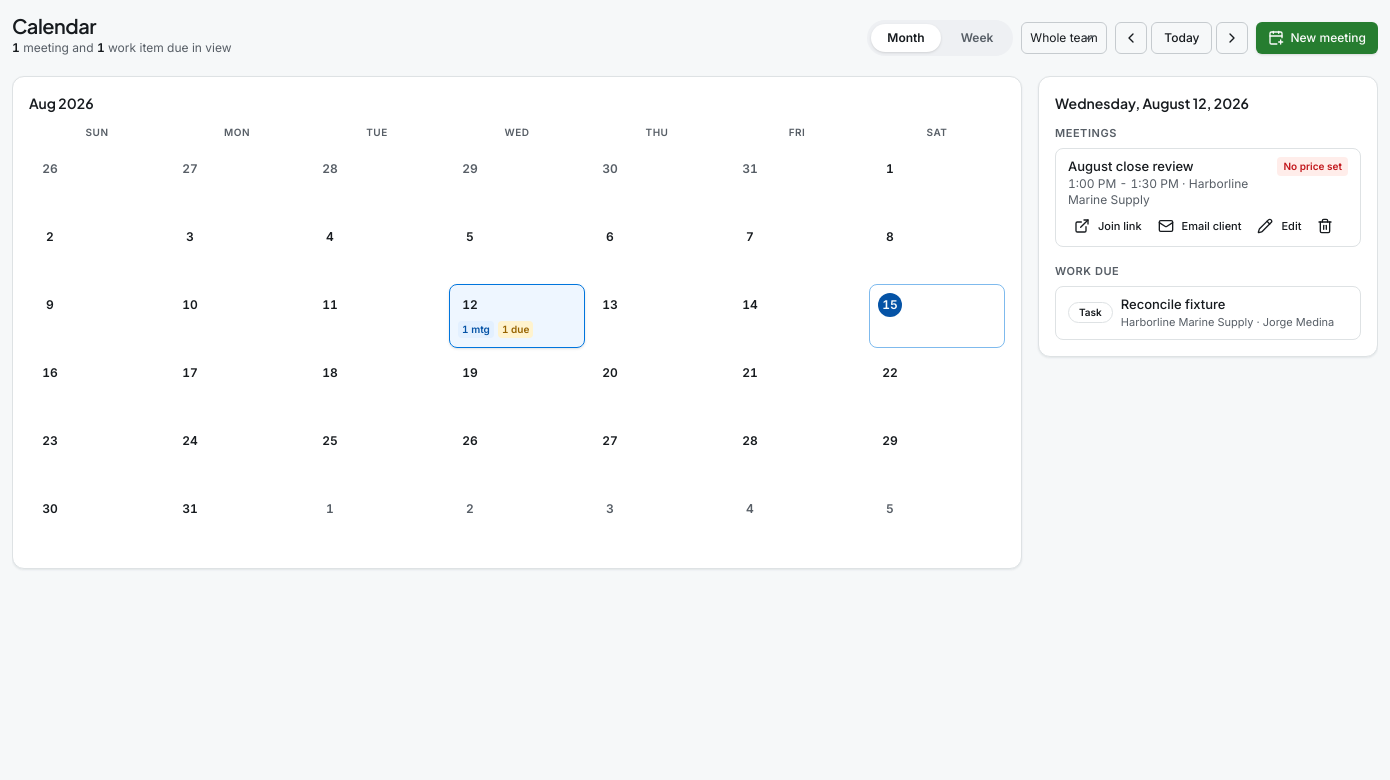
Scenario: CalendarViewRoot (month view) › fetches the clicked day through the day action and updates the detail card
Click the button with test id "calendar-day-2026-08-20" at (657, 384), box [589, 352, 725, 416]
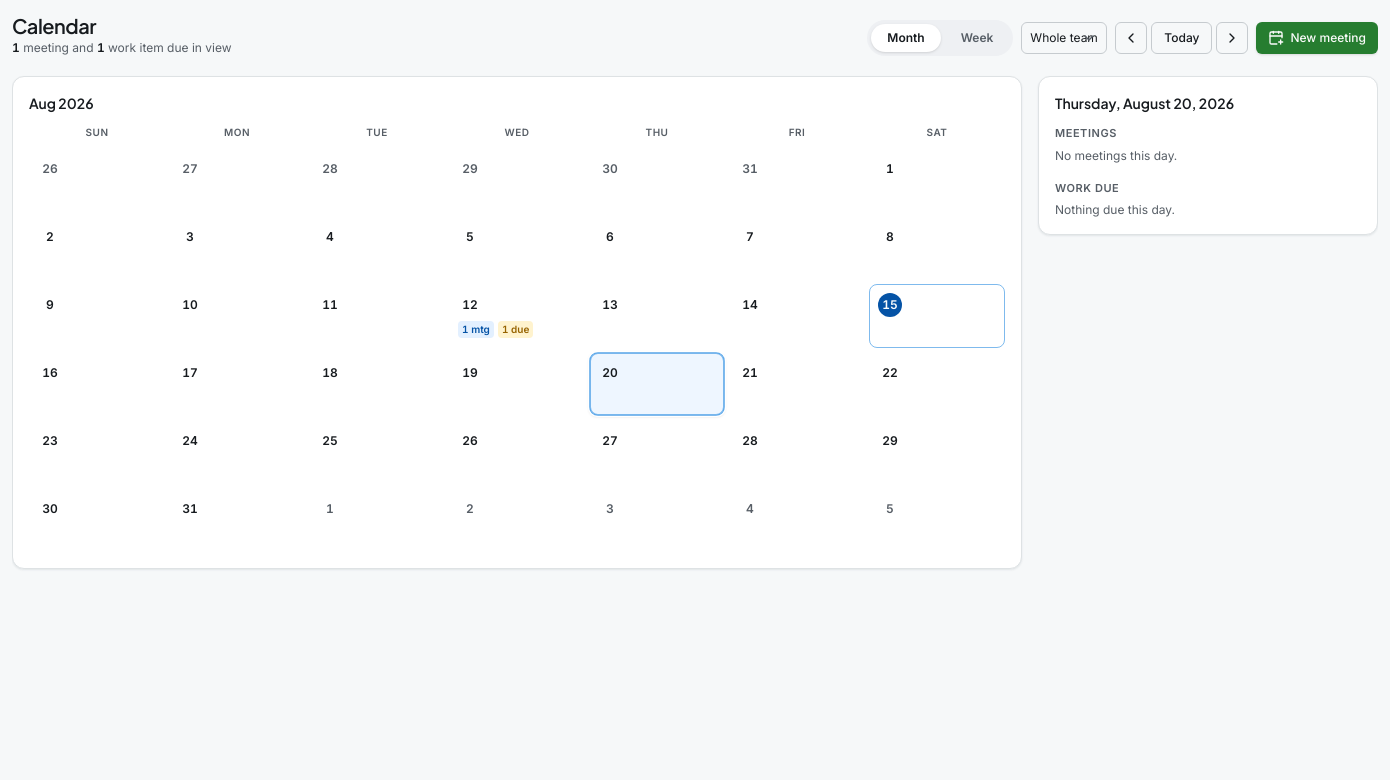
Check: the element with test id "calendar-day-detail" shows "No meetings this day.", box [1055, 148, 1177, 162]
